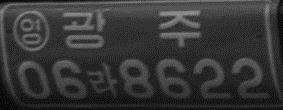0: (16, 60, 50, 100)
2: (232, 56, 271, 99), (193, 57, 231, 99)
6: (155, 57, 192, 100), (52, 59, 87, 101)
8: (119, 57, 154, 100)
광주_D: (61, 10, 202, 51)
라: (87, 63, 119, 98)
영: (11, 9, 50, 52)
